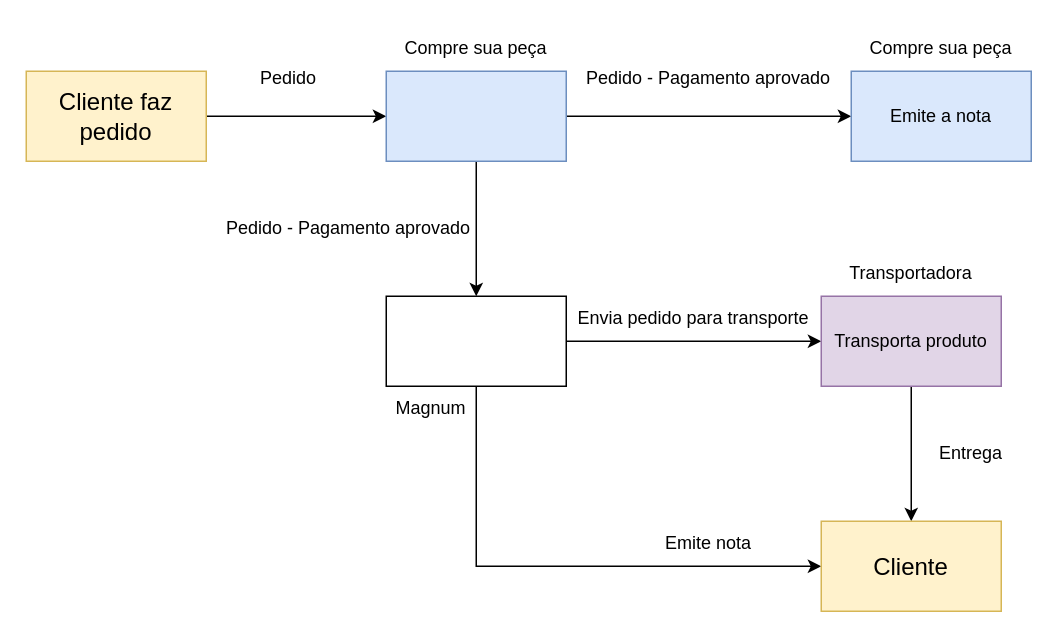
This 1058x638 diagram has some shape labels left out. Here are the shapes that lost their labels. From the top down, the box of each, then its label:
(385, 70, 566, 161): Processa o pagamento do pedido
(385, 295, 566, 386): Recebe o pedido
